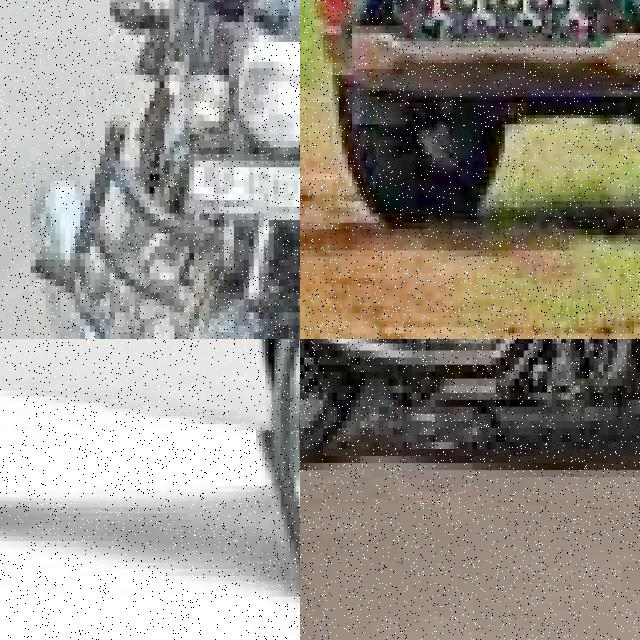bike: (25, 0, 300, 339), (300, 339, 640, 512)
car: (0, 339, 300, 633), (300, 0, 640, 256)
